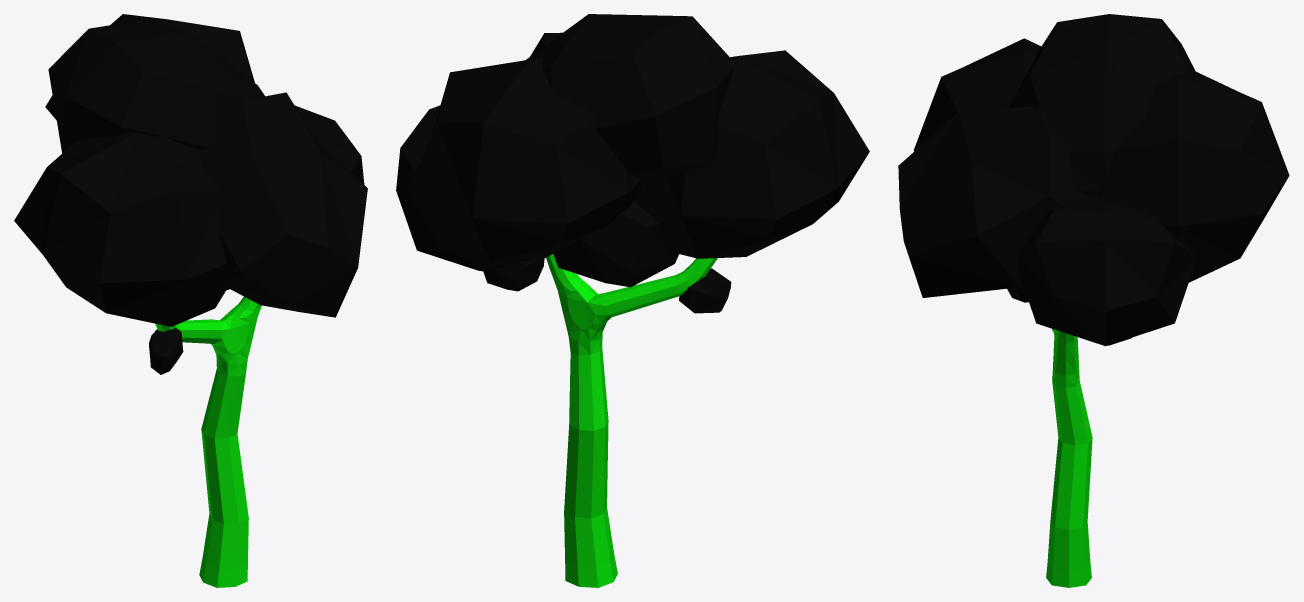
Rendered from tree.dae.
3 views of the same model, side by side, from view 1: azimuth 30°, elevation 25°; view 2: azimuth 150°, elevation 25°; view 3: azimuth 270°, elevation 25° (orthographic). The views are drawn at different scales.
Visible parts, largest first — view 1: Cube_001, Cube_005, Cube_008, Vert, Cube_004, Cube, Cube_003; view 2: Cube_004, Cube_001, Cube_008, Vert, Cube_007, Cube, Cube_003, Cube_006; view 3: Cube_005, Cube_004, Cube, Cube_008, Vert, Cube_001.
Boxes of the visible parts, bbox=[...] form: Cube_001: bbox=[14, 132, 227, 326]; Cube_005: bbox=[199, 92, 367, 317]; Cube_008: bbox=[48, 20, 264, 153]; Vert: bbox=[155, 296, 261, 587]; Cube_004: bbox=[45, 14, 254, 119]; Cube: bbox=[294, 105, 364, 184]; Cube_003: bbox=[149, 328, 183, 374]; Cube_004: bbox=[407, 58, 641, 262]; Cube_001: bbox=[634, 50, 869, 258]; Cube_008: bbox=[526, 14, 734, 187]; Vert: bbox=[546, 254, 717, 587]; Cube_007: bbox=[553, 200, 678, 287]; Cube: bbox=[396, 105, 552, 272]; Cube_003: bbox=[679, 268, 731, 313]; Cube_006: bbox=[483, 258, 544, 291]; Cube_005: bbox=[898, 106, 1087, 297]; Cube_004: bbox=[1097, 71, 1289, 282]; Cube: bbox=[1018, 195, 1197, 346]; Cube_008: bbox=[1008, 14, 1195, 195]; Vert: bbox=[1046, 329, 1092, 587]; Cube_001: bbox=[913, 38, 1041, 151].
Bounding box in the file's own units: 5.81 × 5.65 × 8.34.
